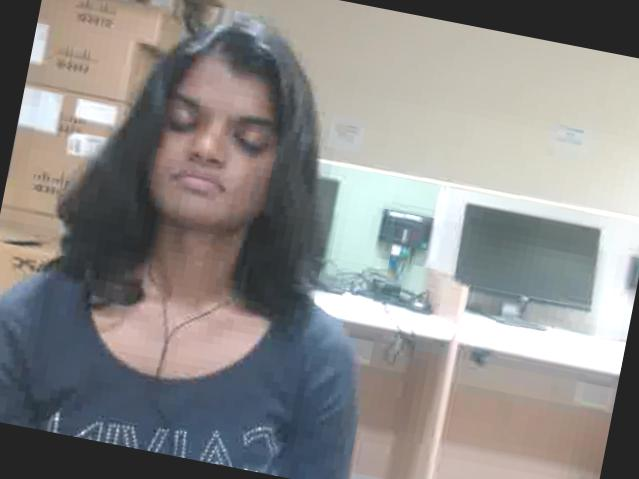bosan: (141, 54, 298, 232)
